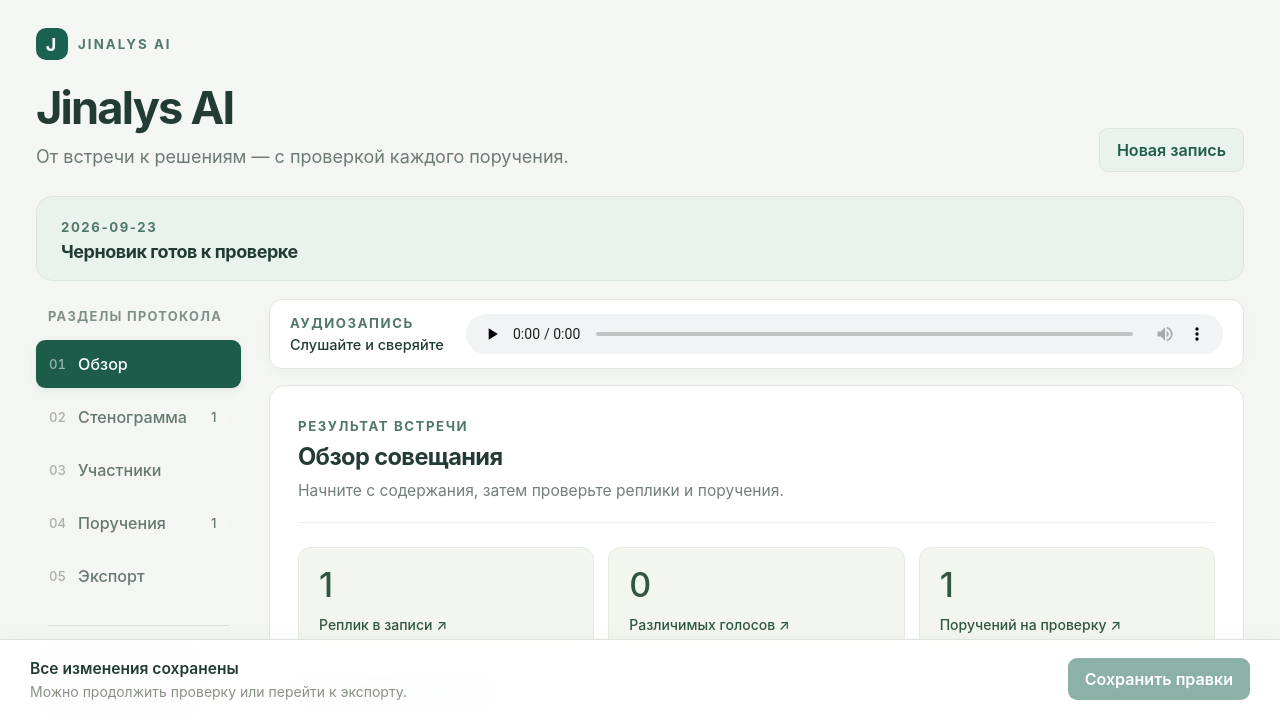
it: blocks edits during export and exposes an export error without losing the draft
The image size is (1280, 718).
Click the tab "05 Экспорт".
click(138, 576)  # box [36,552,241,600]
(page scrolled)
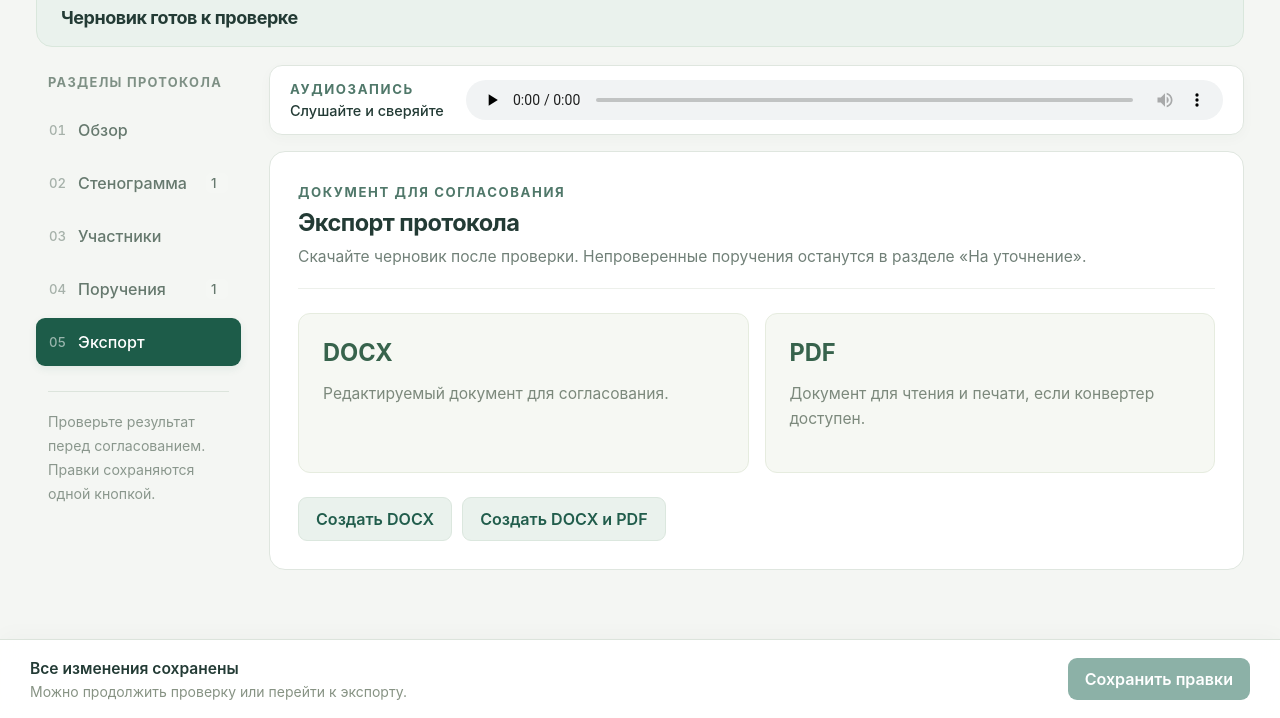
Click the button "Создать DOCX".
click(375, 519)  # box [298,497,452,541]
(page scrolled)
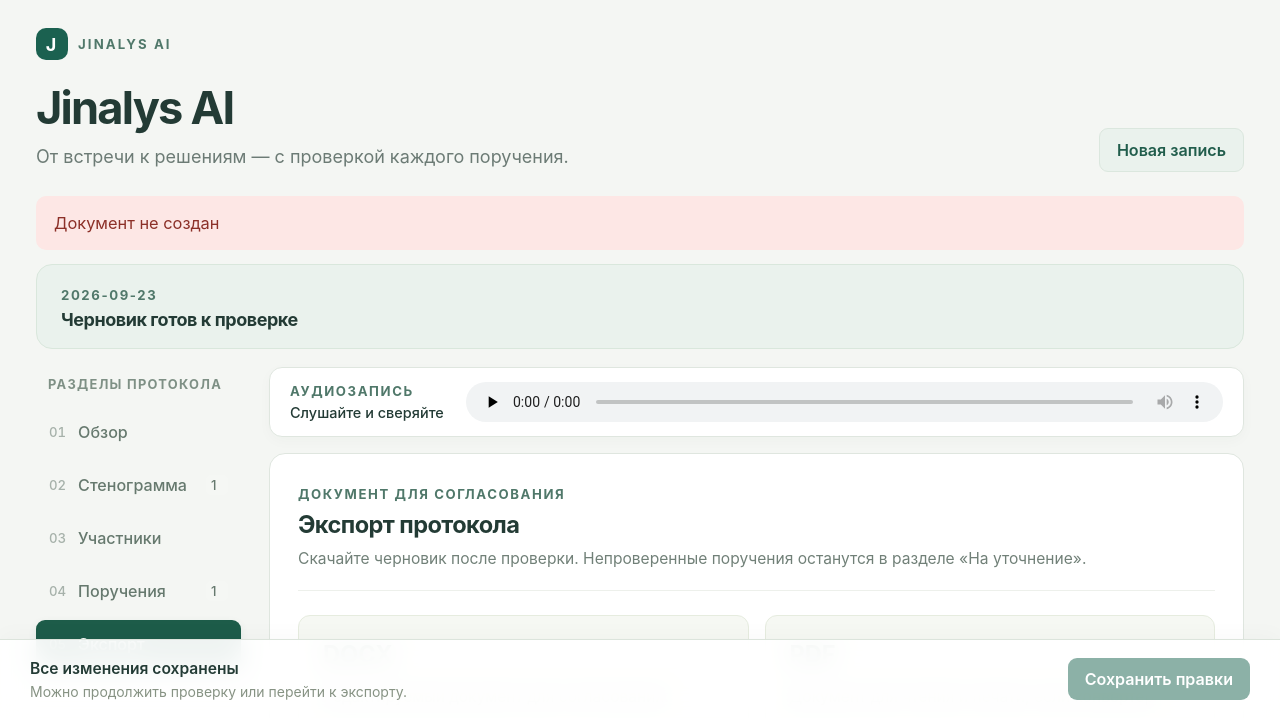
Result: the message reads "Документ не создан" at [54,213,219,233]
